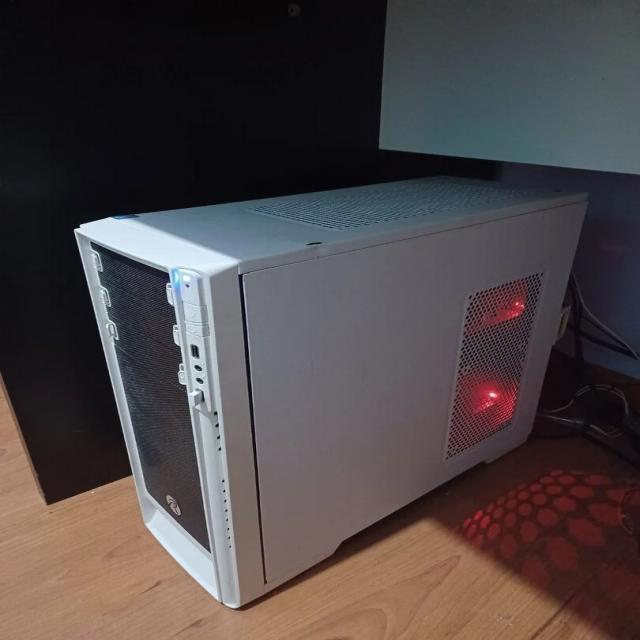Desktop-PC: (68, 169, 634, 615)
